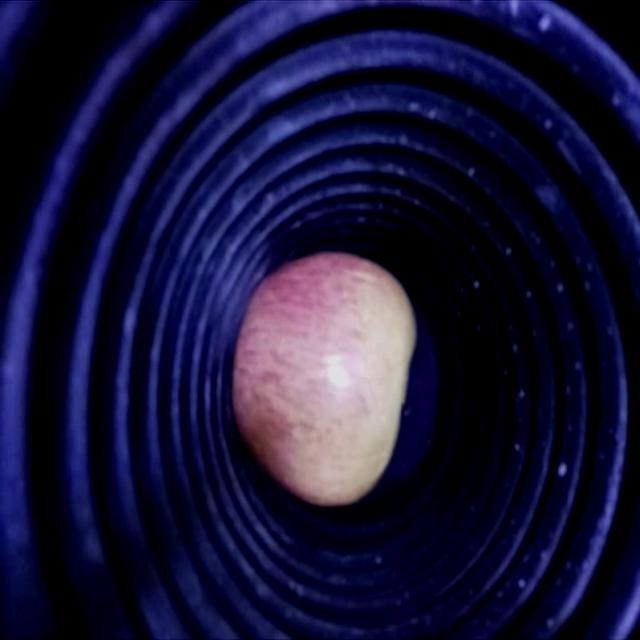obstacles: (233, 252, 413, 504)
